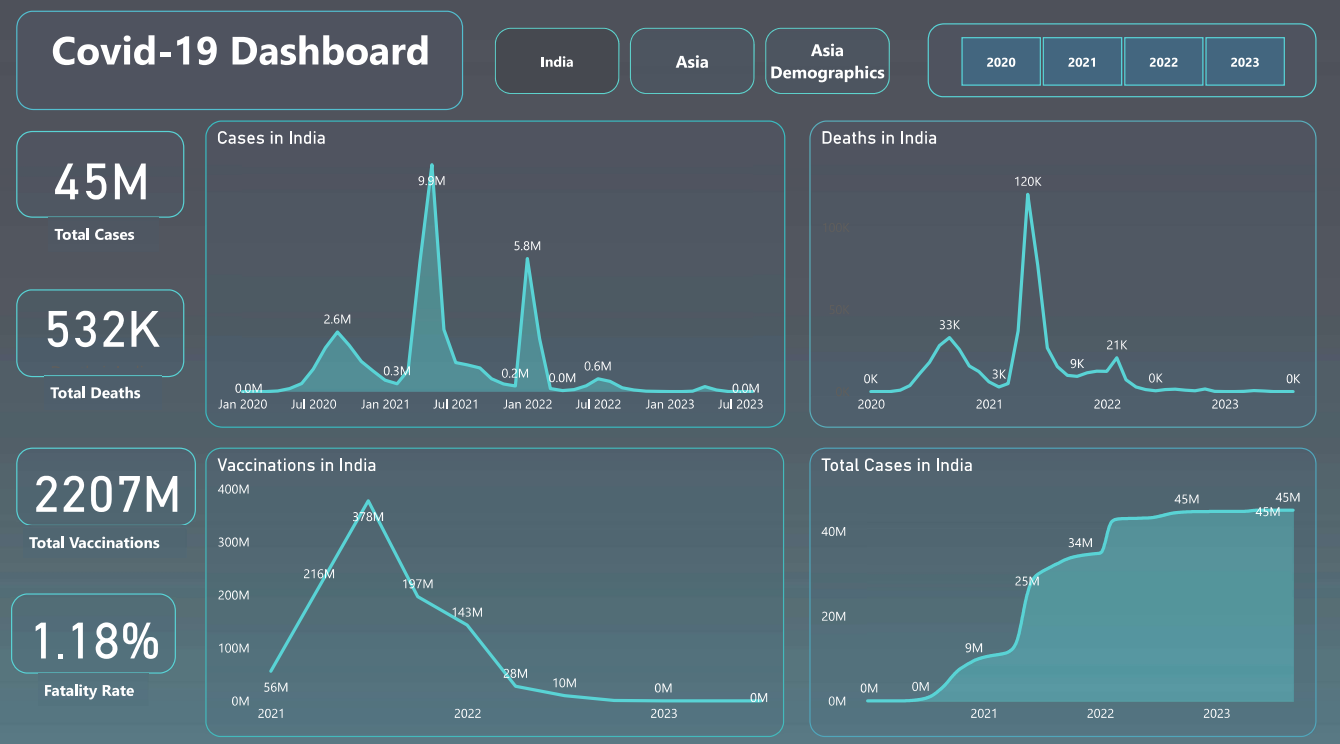

This screenshot's page, from the dashboard's own definition file:
{"tool":"powerbi","page":{"name":"India","canvas":[1280,720],"ordinal":0},"visuals":[{"type":"areaChart","title":"Cases in India","fields":{"Category":["Calendar.Date.Variation.Date Hierarchy.Year","Calendar.Date.Variation.Date Hierarchy.Quarter","Calendar.Date.Variation.Date Hierarchy.Month","Calendar.Date.Variation.Date Hierarchy.Day"],"Y":["weekly_cases.ActualCases7"]},"box":[200.2,117.9,548.4,290.7],"z":0},{"type":"lineChart","title":"Deaths in India","fields":{"Y":["weekly_deaths.ActualDeaths7"],"Category":["Calendar.Date.Variation.Date Hierarchy.Year","Calendar.Date.Variation.Date Hierarchy.Quarter","Calendar.Date.Variation.Date Hierarchy.Month","Calendar.Date.Variation.Date Hierarchy.Day"]},"box":[771.9,117.9,479.9,290.7],"z":1000},{"type":"lineChart","title":"Vaccinations in India","fields":{"Y":["Sum(IndiaCovid.Actual_People_Vaccinated)"],"Category":["Calendar.Date.Variation.Date Hierarchy.Year","Calendar.Date.Variation.Date Hierarchy.Quarter","Calendar.Date.Variation.Date Hierarchy.Month","Calendar.Date.Variation.Date Hierarchy.Day"]},"box":[200,428,548,274],"z":2000},{"type":"textbox","box":[20.6,13.7,423.7,94.6],"z":3000},{"type":"card","fields":{"Values":["Sum(IndiaCovid.Actual_Total_Vaccinations)"]},"box":[20,428,152,74],"z":4000},{"type":"areaChart","title":"Total Cases in India","fields":{"Category":["actual_total_cases.date.Variation.Date Hierarchy.Year"],"Y":["Sum(actual_total_cases.India)"]},"box":[772,428,480,274],"z":5000},{"type":"slicer","fields":{"Values":["Calendar.Date.Variation.Date Hierarchy.Year"]},"box":[884,26,368,70],"z":6000},{"type":"card","fields":{"Values":["weekly_deaths.DeathsinIndia"]},"box":[20.6,278.3,159,82.3],"z":7000},{"type":"card","fields":{"Values":["weekly_cases.CasesinIndia"]},"box":[20.6,127.5,159,82.3],"z":8000},{"type":"card","fields":{"Values":["weekly_cases.CasesFatalityRate"]},"box":[16,566,156,76],"z":9000},{"type":"textbox","box":[52,210,104,32],"z":10000},{"type":"textbox","box":[48,360,110,32],"z":11000},{"type":"textbox","box":[28,502,154,30],"z":12000},{"type":"textbox","box":[42,642,104,30],"z":13000},{"type":"pageNavigator","box":[474.4,31.5,389.4,61.7],"z":16001}]}

Visuals, with their boxes in screenshot pixels (x1, y1, x2, y2), scaled from the page's 1280x720 canvas onto the 1340x744 screenshot:
"Cases in India" areaChart: region(210, 122, 784, 422)
"Deaths in India" lineChart: region(808, 122, 1310, 422)
"Vaccinations in India" lineChart: region(209, 442, 783, 725)
textbox: region(22, 14, 465, 112)
card - Sum(IndiaCovid.Actual_Total_Vaccinations): region(21, 442, 180, 519)
"Total Cases in India" areaChart: region(808, 442, 1311, 725)
slicer - Calendar.Date.Variation.Date Hierarchy.Year: region(925, 27, 1311, 99)
card - weekly_deaths.DeathsinIndia: region(22, 288, 188, 373)
card - weekly_cases.CasesinIndia: region(22, 132, 188, 217)
card - weekly_cases.CasesFatalityRate: region(17, 585, 180, 663)
textbox: region(54, 217, 163, 250)
textbox: region(50, 372, 165, 405)
textbox: region(29, 519, 191, 550)
textbox: region(44, 663, 153, 694)
pageNavigator: region(497, 33, 904, 96)
